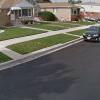Car: (79, 22, 100, 51)
